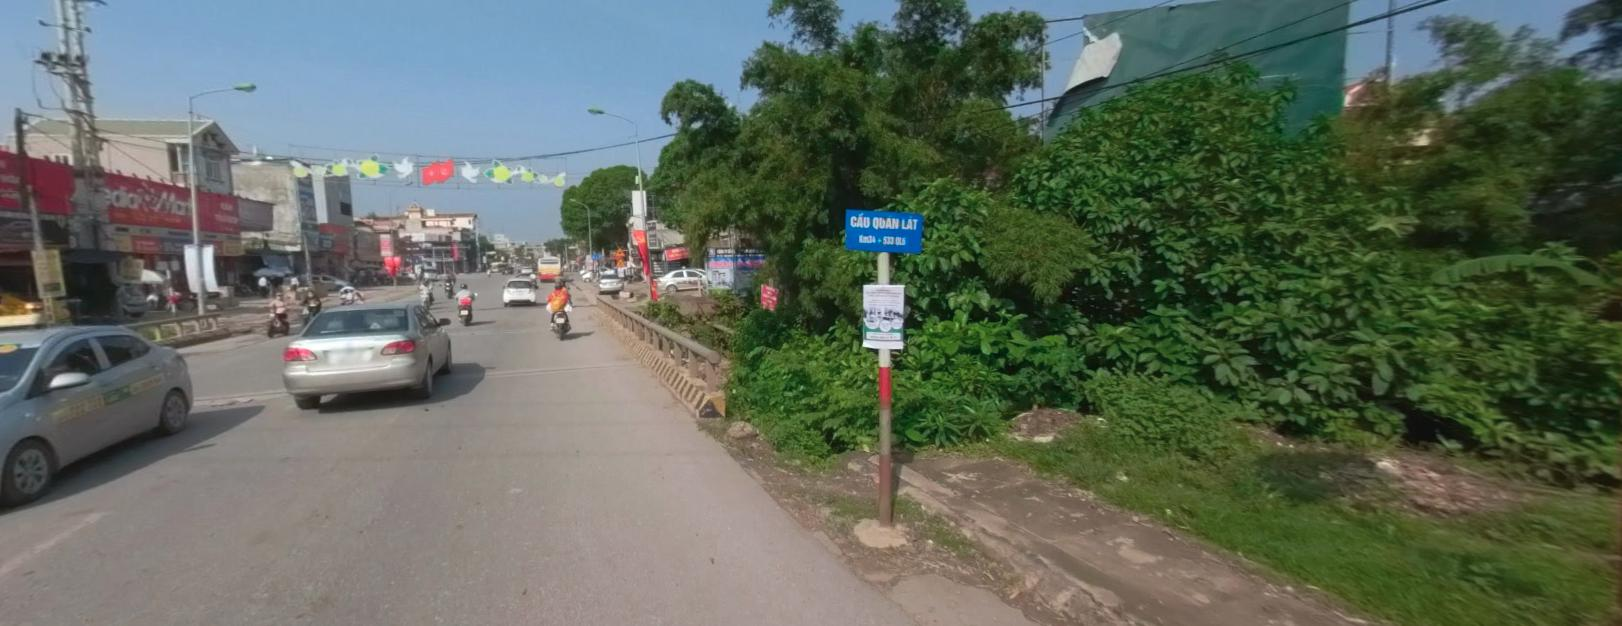Nguy hiem: (614, 256, 626, 265), (614, 246, 625, 254)
